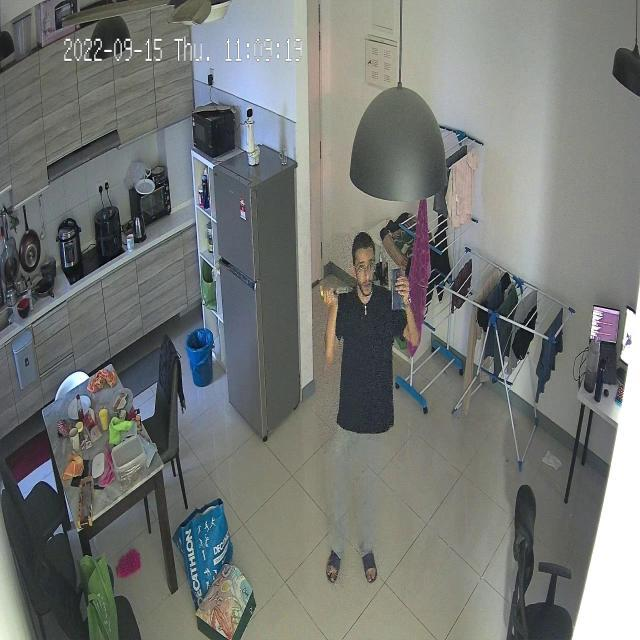Knife: (305, 276, 357, 311)
